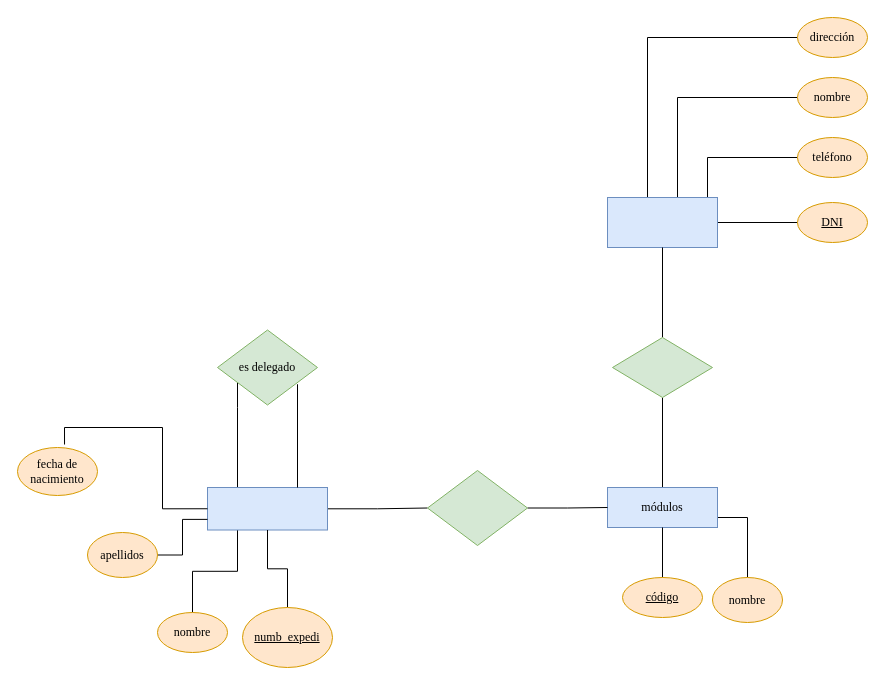
Image size: 885x685. Some labels were removed from this diagram. Each missing label, with the box of its shape:
alumnos: (206, 486, 328, 530)
está matriculado: (426, 470, 528, 546)
imparten: (612, 336, 712, 398)
profesores: (606, 196, 718, 248)
